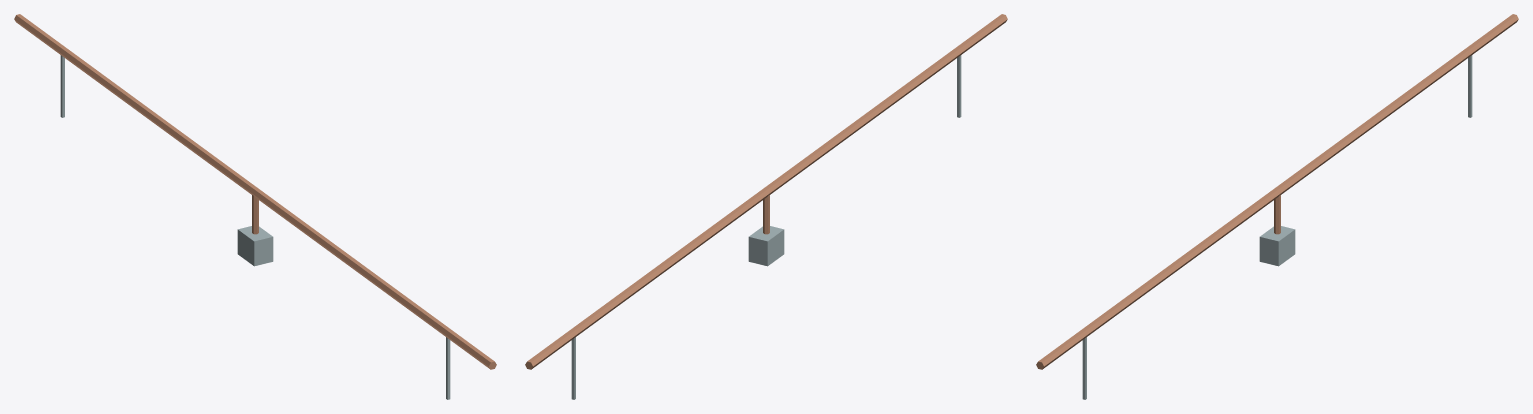
3 renders of one model, left to right at view 1: azimuth 30°, elevation 25°; view 2: azimuth 150°, elevation 25°; view 3: azimuth 330°, elevation 25°, orthographic.
Size of the model in its own units: 1.6 by 5.59 by 69.
